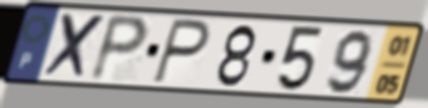5: (272, 23, 329, 93)
8: (215, 23, 257, 88)
9: (326, 27, 375, 96)
P: (86, 12, 152, 84), (149, 16, 213, 87)
X: (40, 11, 110, 82)
